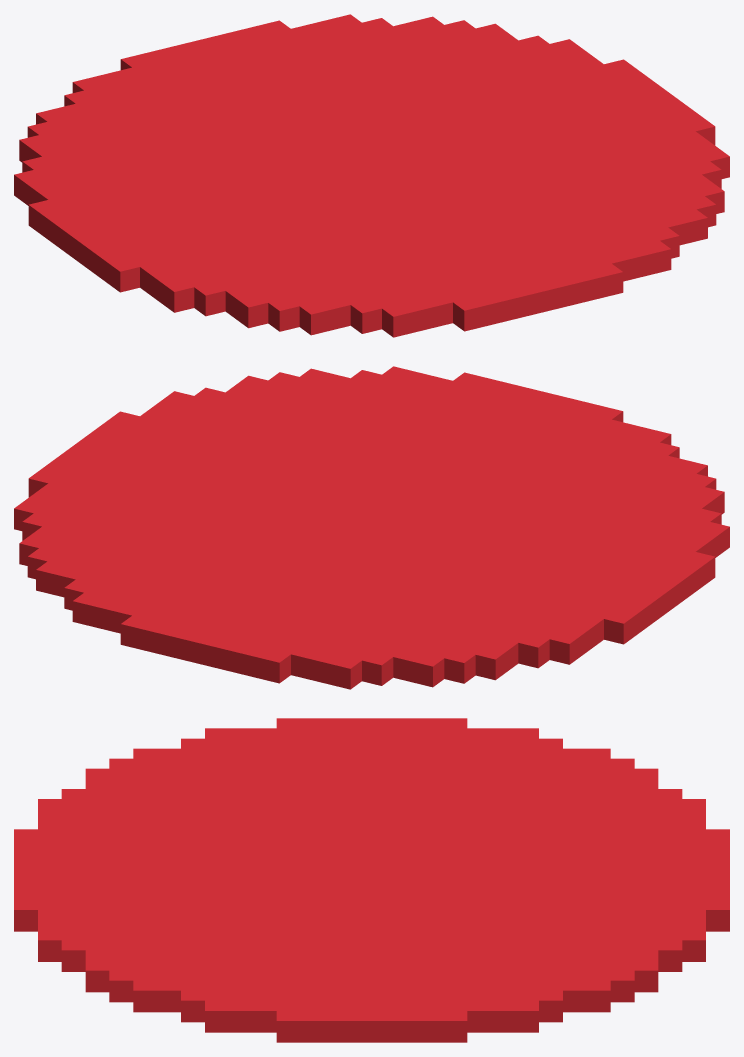
The model's file is ZonaRiesgoRoja.obj.
3 views of the same model, one above another, from view 1: azimuth 30°, elevation 25°; view 2: azimuth 150°, elevation 25°; view 3: azimuth 270°, elevation 25° (orthographic). The views are drawn at different scales.
Bounding box in the file's own units: 3 × 0.1 × 3.
1 material, 1 textured.
